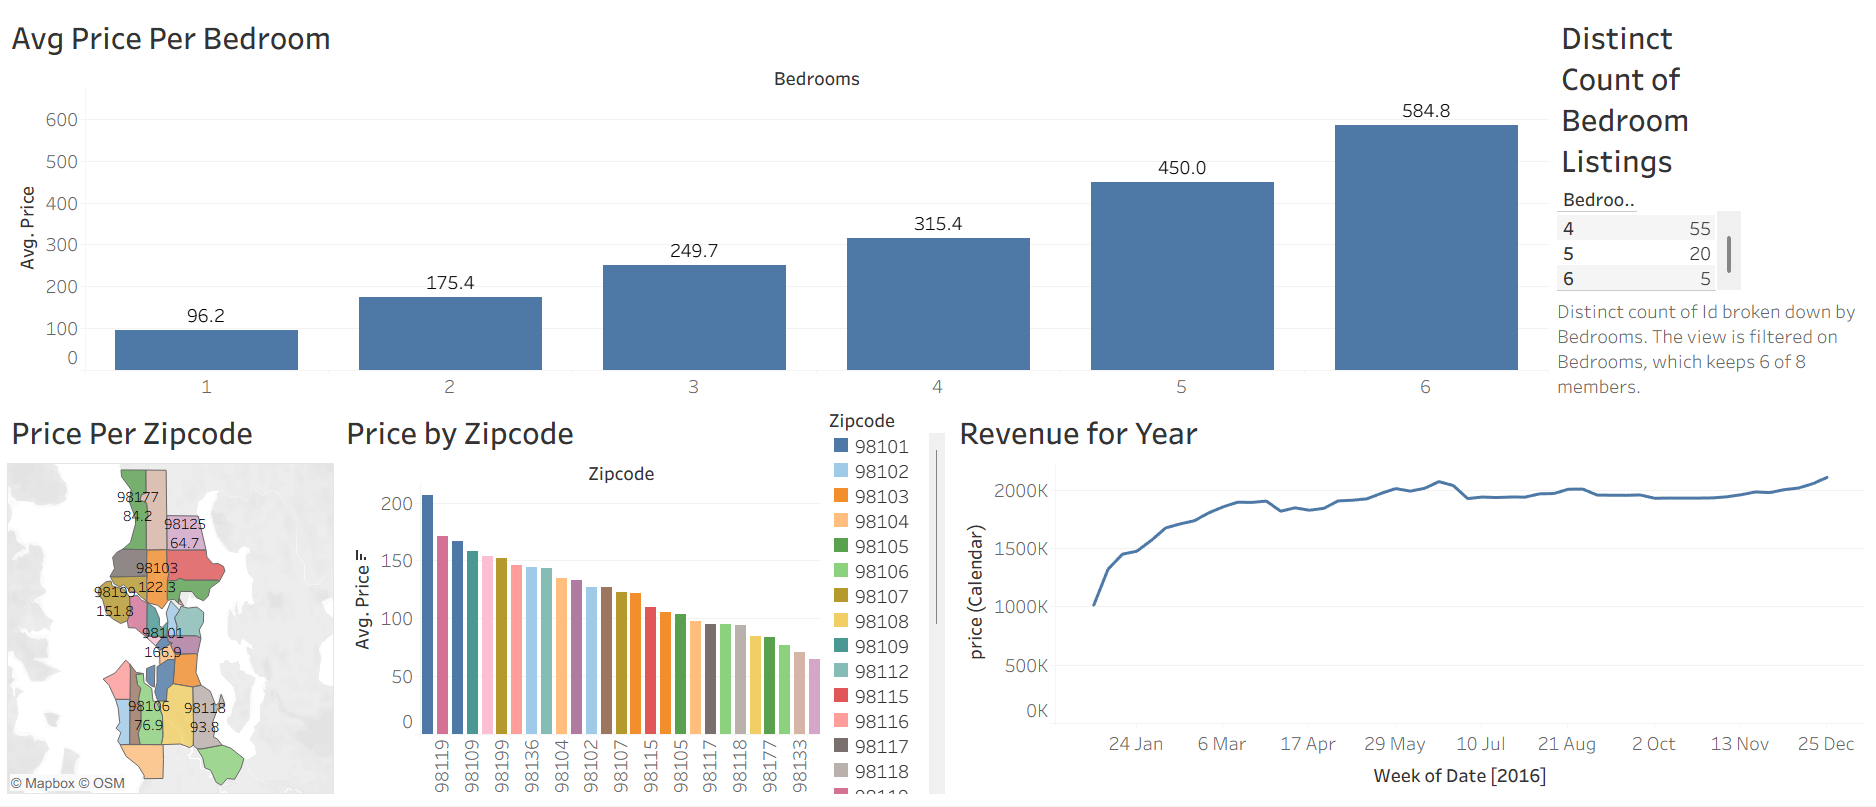

Layout of this report page (visuals, bound fields, positions):
{"tool":"tableau","page":{"name":"Dashboard 1","canvas":[1000,1000],"units":"permille","ordinal":0},"visuals":[{"type":"worksheet","title":"Sheet 4","mark":"Automatic","rows":["price"],"cols":["bedrooms"],"box":[5.1,8.8,822.5,491.2]},{"type":"worksheet","title":"Sheet 5","mark":"Automatic","rows":["bedrooms"],"box":[827.5,8.8,167.4,491.2]},{"type":"worksheet","title":"Sheet 2","mark":"Multipolygon","box":[5.1,500,177.6,491.2]},{"type":"worksheet","title":"Sheet 1","mark":"Automatic","rows":["price"],"cols":["zipcode"],"box":[182.6,500,258.7,491.2]},{"type":"legend","title":"Sheet 1","param":"[federated.1gmuv9z1xw2sc414hofr61067qbf].[none:zipcode:ok]","box":[441.3,500,66.6,491.2]},{"type":"worksheet","title":"Sheet 3","mark":"Automatic","rows":["price (Calendar)"],"cols":["date"],"box":[507.9,500,487,491.2]}]}

Visuals, with their boxes on the dashboard's canvas, which has no fixed pixel size, in thousandths of its width and height (x1, y1, x2, y2). These are canvas units, not pixel positions in the 1876x807 screenshot, which may show the page scaled, cropped or inside an application window:
"Sheet 4" worksheet: rect(5, 9, 828, 500)
"Sheet 5" worksheet: rect(828, 9, 995, 500)
"Sheet 2" worksheet (Multipolygon marks): rect(5, 500, 183, 991)
"Sheet 1" worksheet: rect(183, 500, 441, 991)
"Sheet 1" legend: rect(441, 500, 508, 991)
"Sheet 3" worksheet: rect(508, 500, 995, 991)
